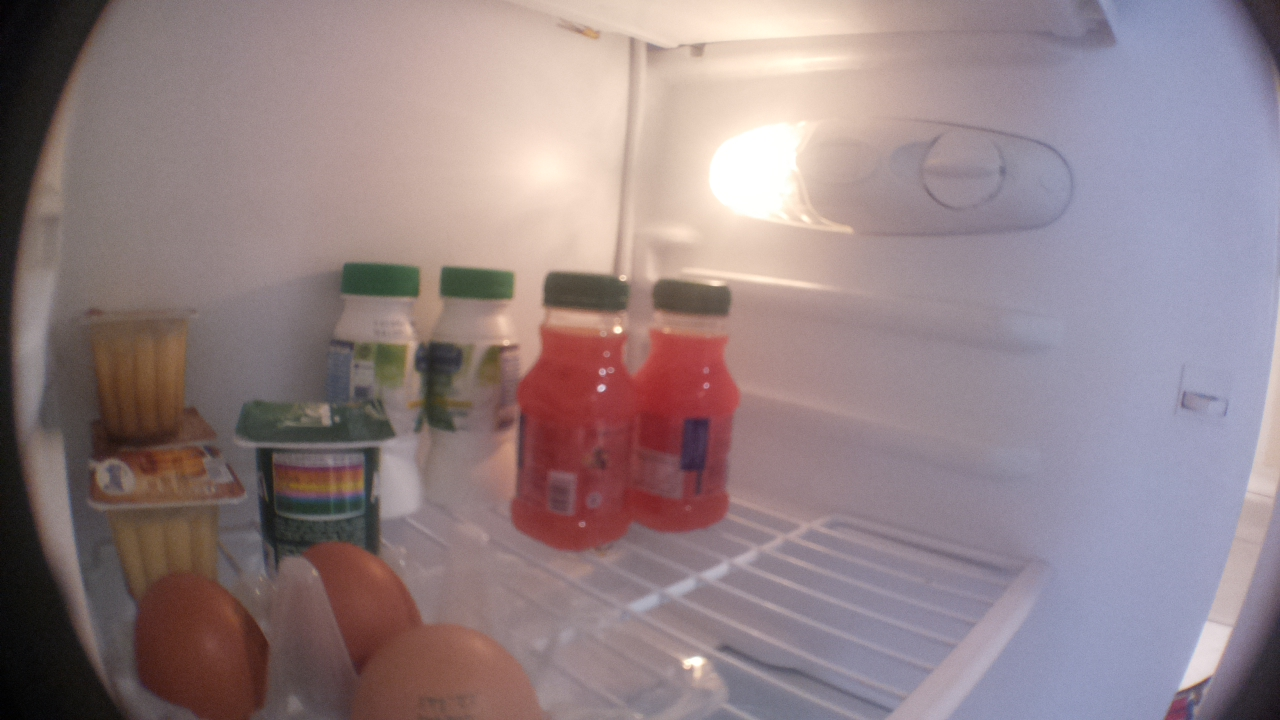caramel: (84, 433, 236, 610), (65, 299, 199, 442), (77, 395, 222, 450)
egg: (283, 529, 441, 700), (128, 558, 267, 720), (341, 618, 553, 720)
juice: (505, 260, 638, 557), (630, 274, 752, 537)
laban: (314, 248, 431, 534), (428, 264, 528, 521)
yoghurt: (235, 387, 389, 589)
